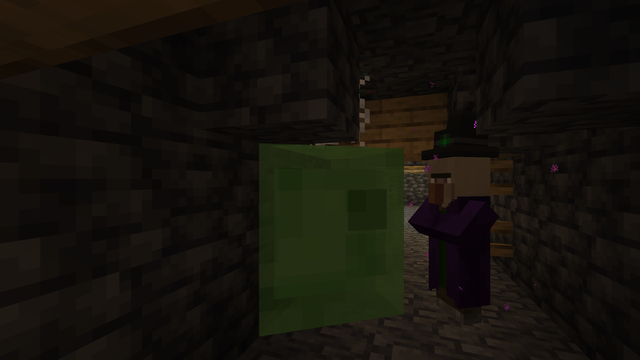slimes: (268, 132, 384, 348)
sorcieres: (429, 148, 493, 331)
